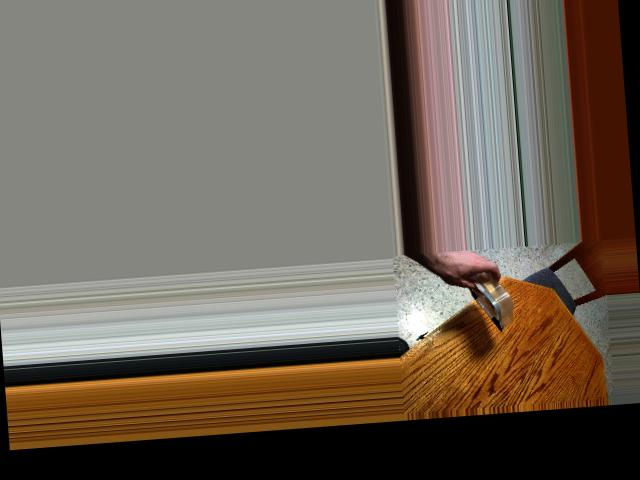cheese: (443, 254, 530, 321)
